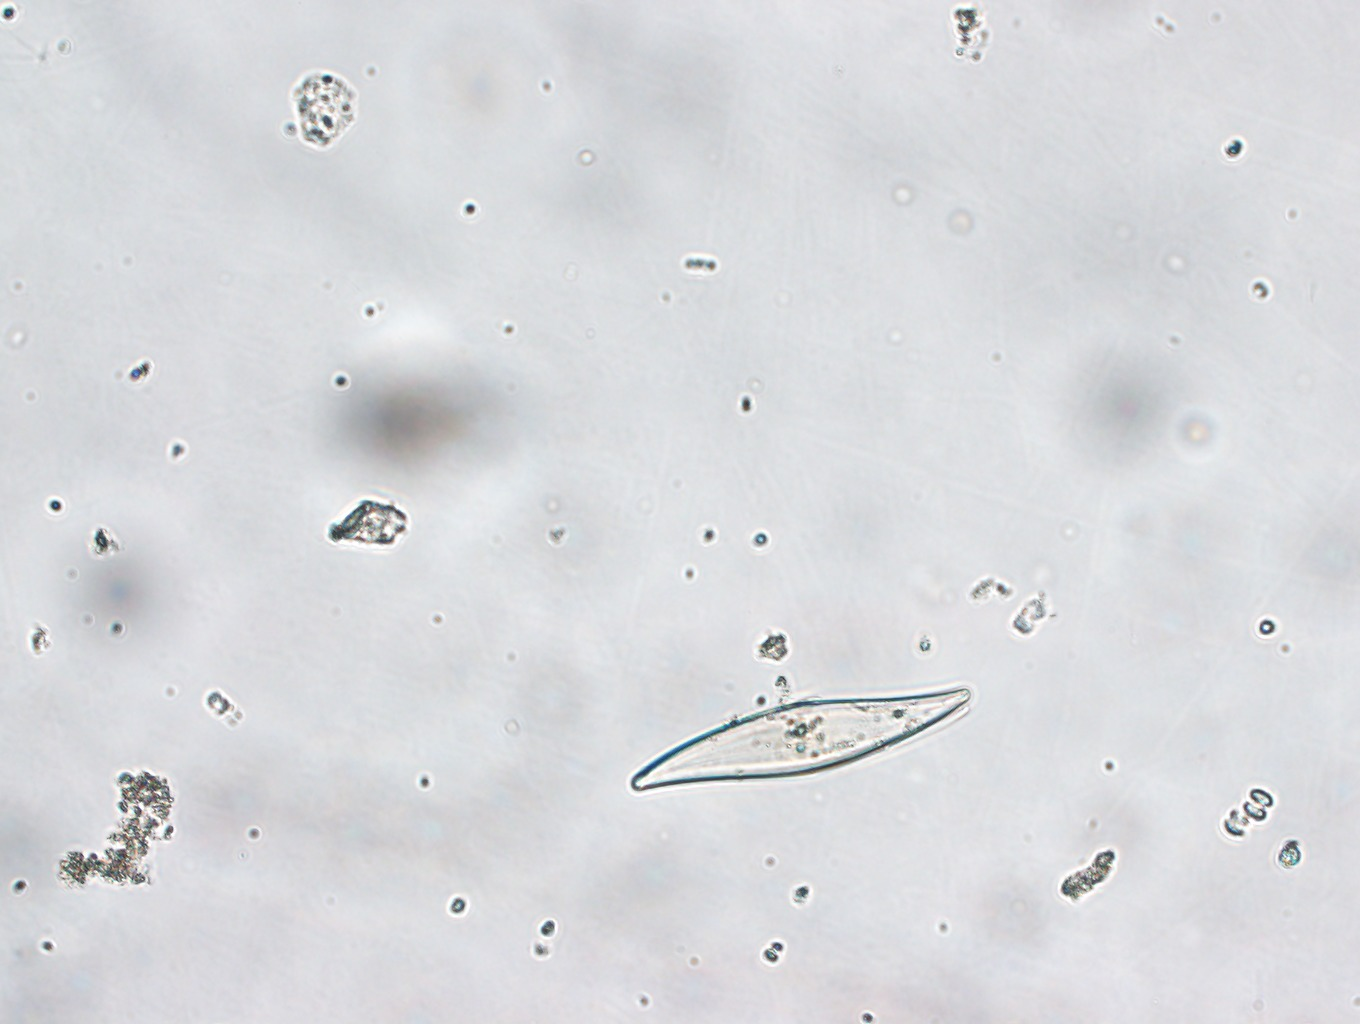pleurosigma pelagicum: (622, 663, 974, 796)
